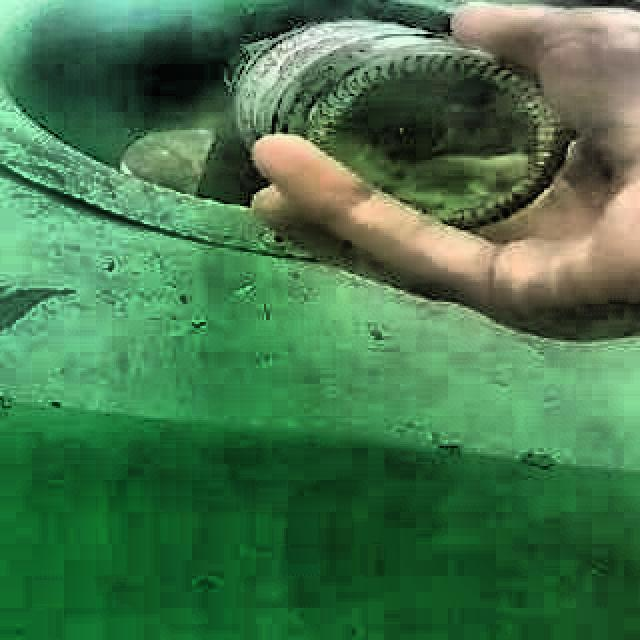glass: (232, 20, 576, 227)
